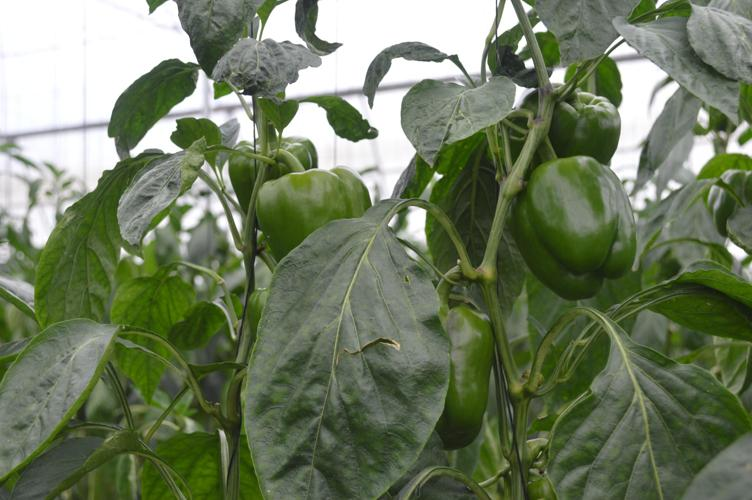BellPepper: (510, 155, 632, 299), (426, 305, 498, 442), (251, 167, 373, 242), (516, 83, 618, 161), (217, 135, 313, 201)
